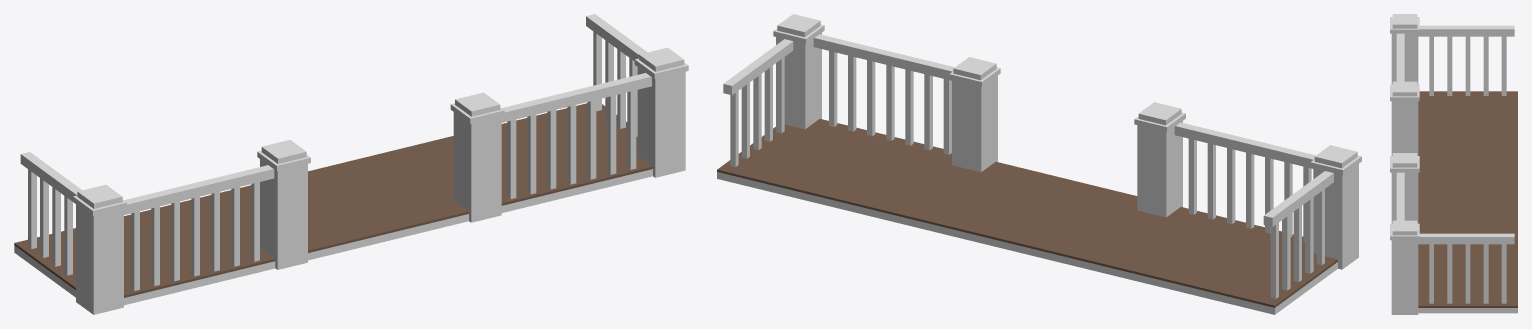
Rendered from Terrace3_C1.fbx.
The picture shows the model from 3 angles, left to right: view 1: azimuth 30°, elevation 25°; view 2: azimuth 150°, elevation 25°; view 3: azimuth 270°, elevation 25°; orthographic projection. The views are drawn at different scales.
Parts seen in each view (by area): view 1: Terrace3_C1; view 2: Terrace3_C1; view 3: Terrace3_C1.
Boxes of the visible parts, x1,y1,x2,y2 form: Terrace3_C1: (14, 14, 688, 314); Terrace3_C1: (717, 14, 1361, 314); Terrace3_C1: (1390, 14, 1517, 314).
Bounding box in the file's own units: 6.44 × 1.14 × 1.59.
